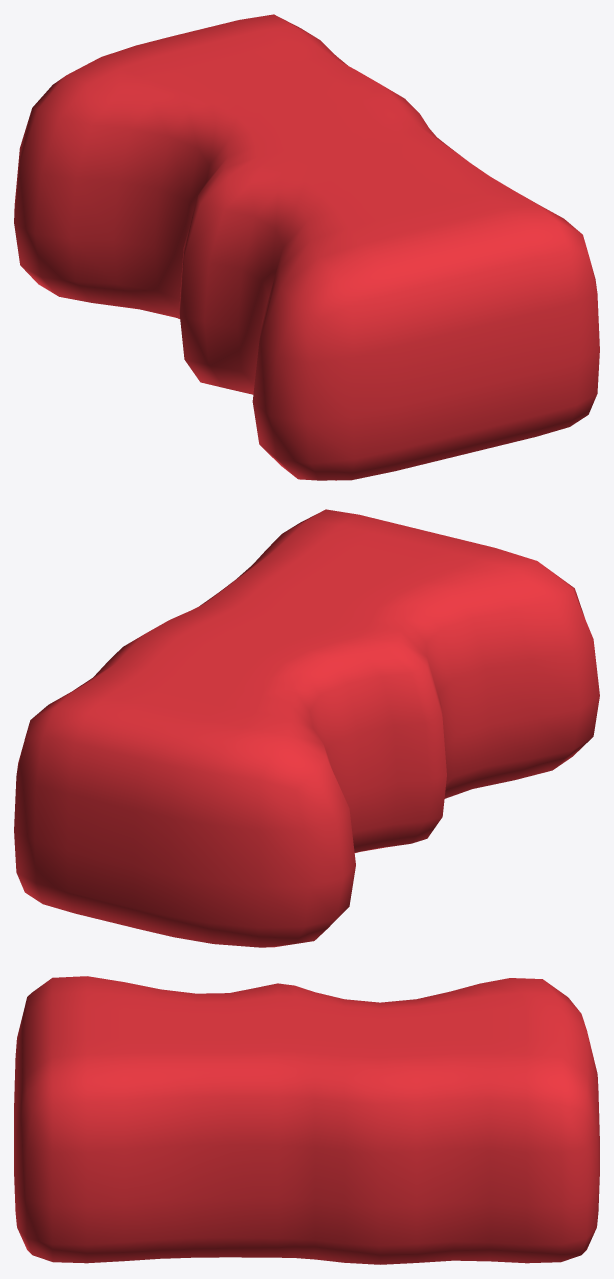
The model's file is Tejido2.fbx.
3 views of the same model, one above another, from view 1: azimuth 30°, elevation 25°; view 2: azimuth 150°, elevation 25°; view 3: azimuth 270°, elevation 25° (orthographic). The views are drawn at different scales.
Visible parts, largest first — view 1: Tejido2; view 2: Tejido2; view 3: Tejido2.
Boxes of the visible parts, <box> form: Tejido2: <box>14,14,599,480</box>; Tejido2: <box>14,509,599,947</box>; Tejido2: <box>14,976,599,1264</box>.
Bounding box in the file's own units: 1.61 × 1 × 2.76.
